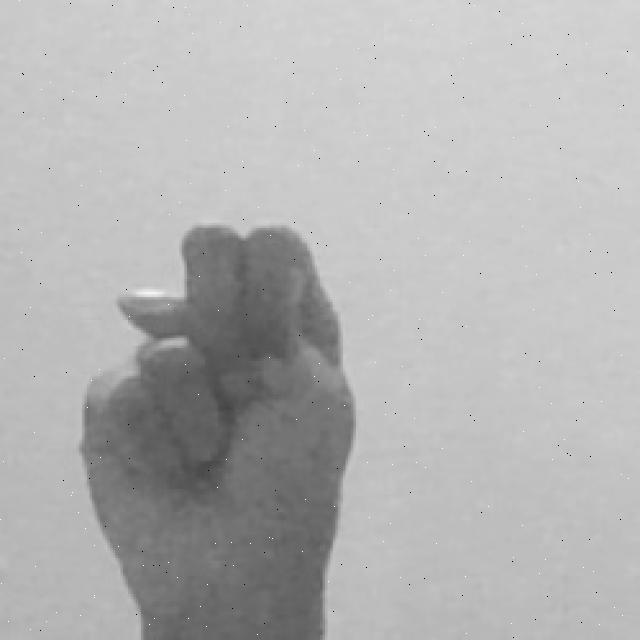N: (66, 207, 364, 640)
